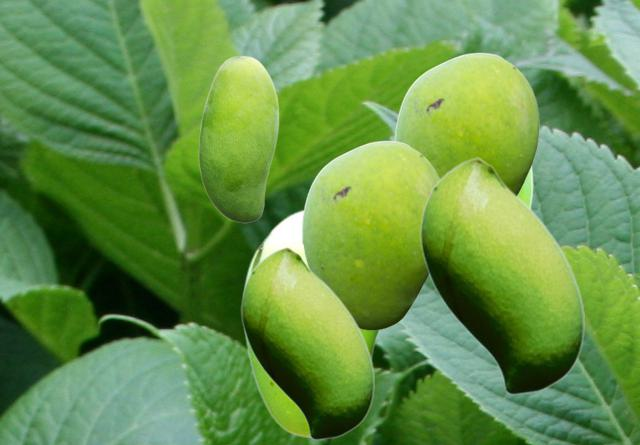green_mango: (419, 156, 583, 394), (242, 207, 380, 436), (301, 140, 440, 329), (240, 246, 373, 439), (394, 52, 538, 194), (198, 55, 278, 222), (519, 166, 532, 207)
